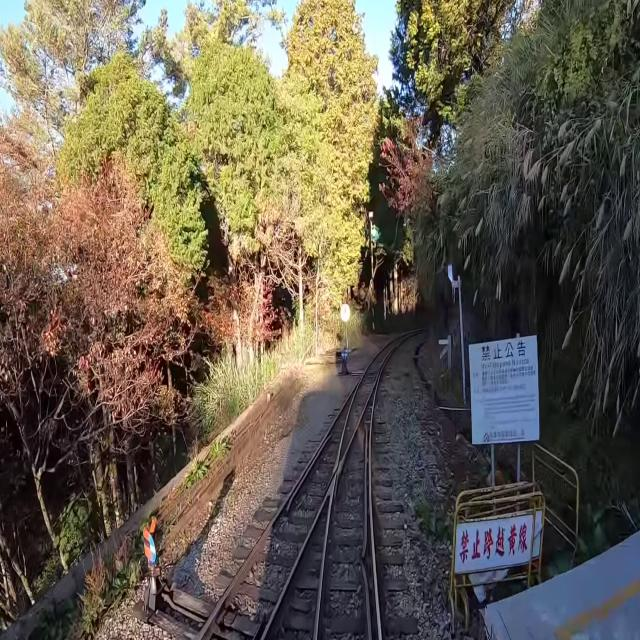rail-track: (202, 400, 349, 639), (318, 395, 377, 639), (340, 343, 394, 456)
